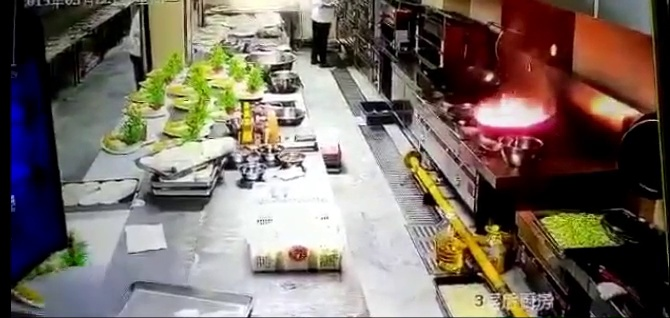fire: (475, 74, 547, 132)
